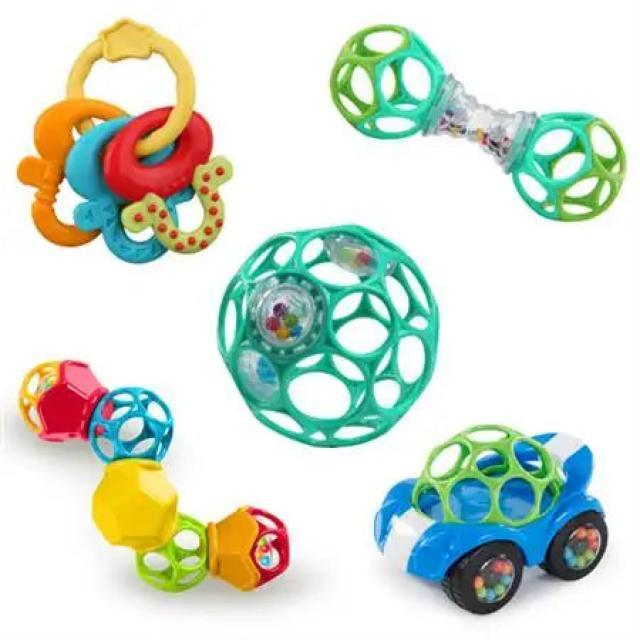hard-toy: (21, 361, 290, 592), (331, 29, 626, 221), (19, 21, 234, 263), (220, 226, 440, 448), (376, 426, 609, 615)
